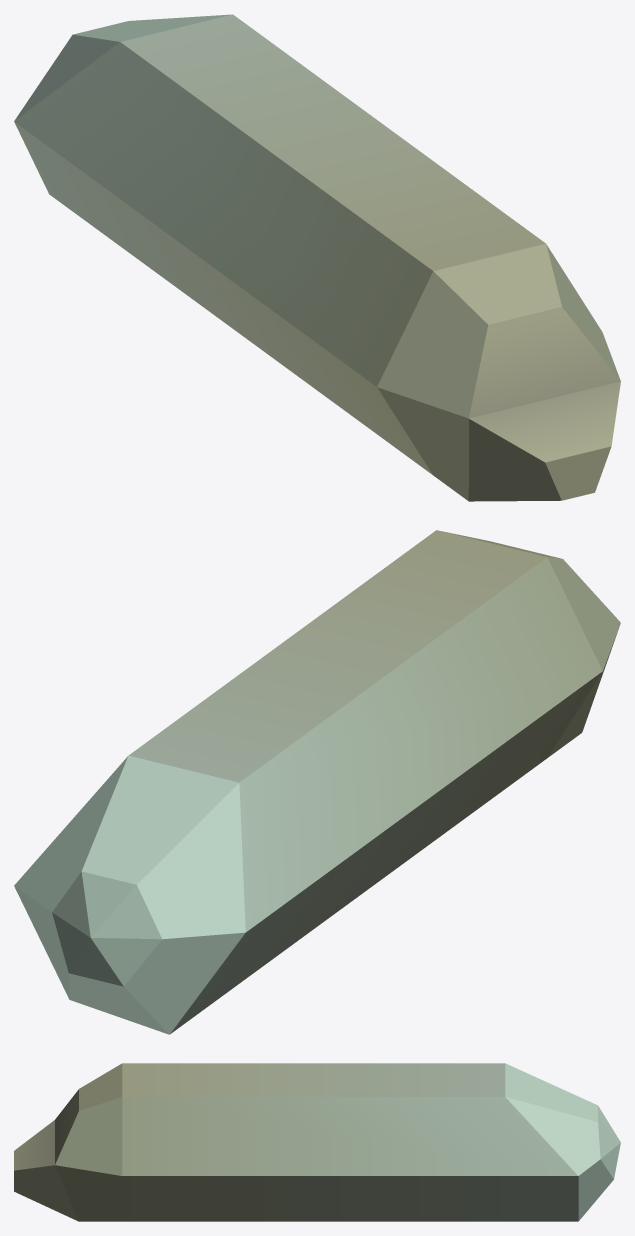
Rendered from ColoredCrystal.011.glb.
3 renders of one model, top to bottom at view 1: azimuth 30°, elevation 25°; view 2: azimuth 150°, elevation 25°; view 3: azimuth 270°, elevation 25°, orthographic. The views are drawn at different scales.
Visible parts, largest first — view 1: ColoredCrystal.011; view 2: ColoredCrystal.011; view 3: ColoredCrystal.011.
Boxes of the visible parts, x1,y1,x2,y2 form: ColoredCrystal.011: (14,14,620,501); ColoredCrystal.011: (14,530,620,1034); ColoredCrystal.011: (14,1063,620,1221).
Size of the model in its own units: 201 by 174 by 766.
